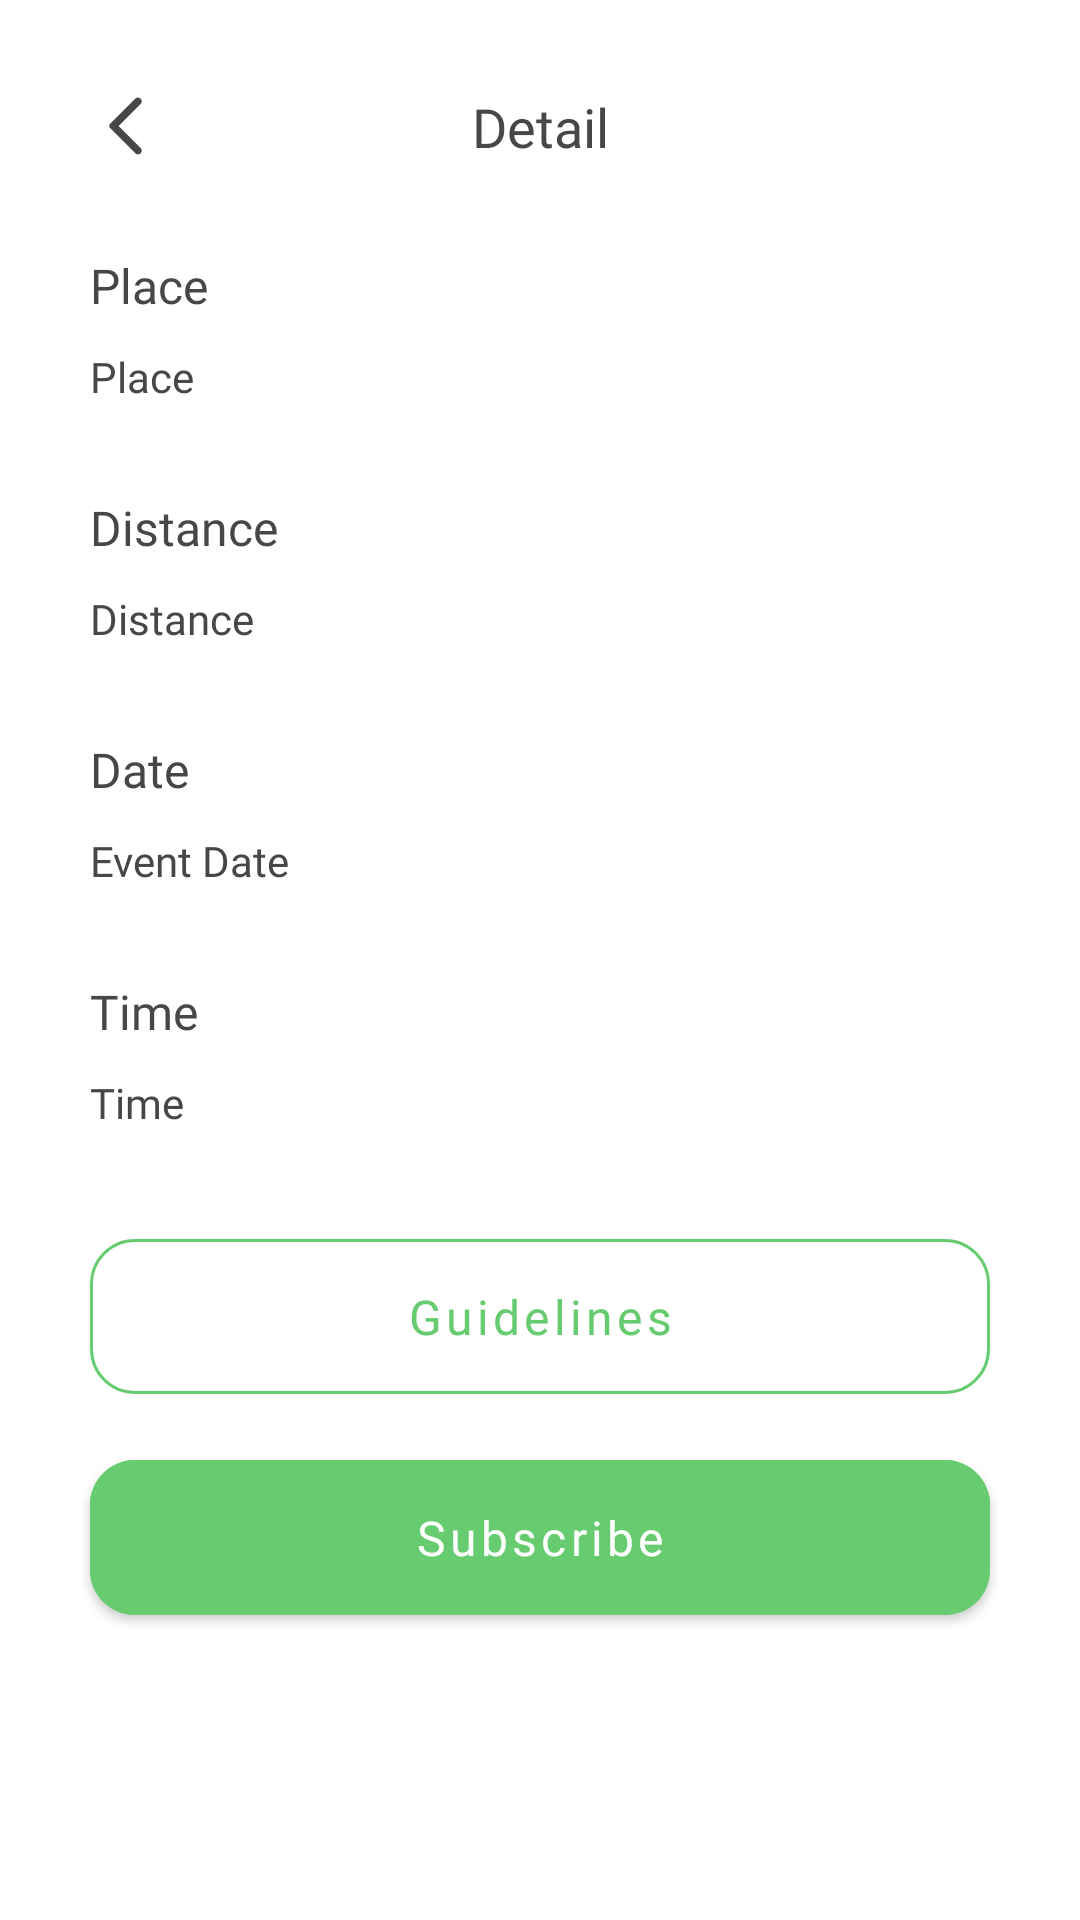

Screen size 1080px×1920px. Icon name, then its box in pixels as (x1, y1, x2, y2):
back: (109, 97, 142, 155)
